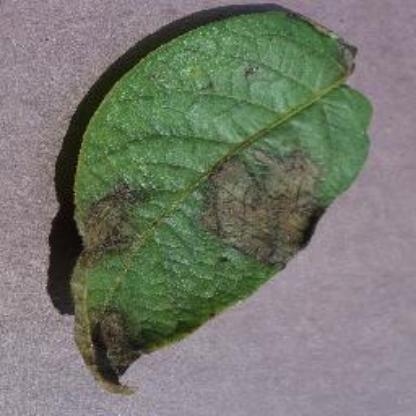Late-Blight: (60, 7, 388, 395)
